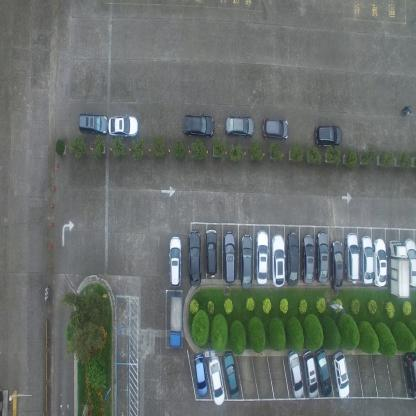car: (388, 238, 410, 300), (313, 346, 332, 396), (332, 349, 350, 399), (239, 232, 254, 291), (181, 112, 215, 138), (302, 349, 319, 399), (287, 349, 304, 399), (223, 350, 240, 399), (76, 109, 108, 135), (187, 229, 201, 288), (208, 354, 224, 405), (256, 228, 270, 286), (286, 230, 300, 288), (107, 111, 138, 137), (222, 229, 236, 286), (169, 292, 183, 349), (344, 231, 359, 284), (168, 233, 182, 289), (300, 233, 315, 284), (359, 234, 374, 285), (313, 122, 342, 148), (271, 234, 285, 287), (262, 116, 290, 142), (224, 114, 254, 138), (193, 352, 209, 397), (330, 239, 344, 290), (373, 238, 387, 289), (402, 238, 416, 289), (316, 231, 329, 284), (204, 227, 217, 278), (403, 350, 416, 400)
